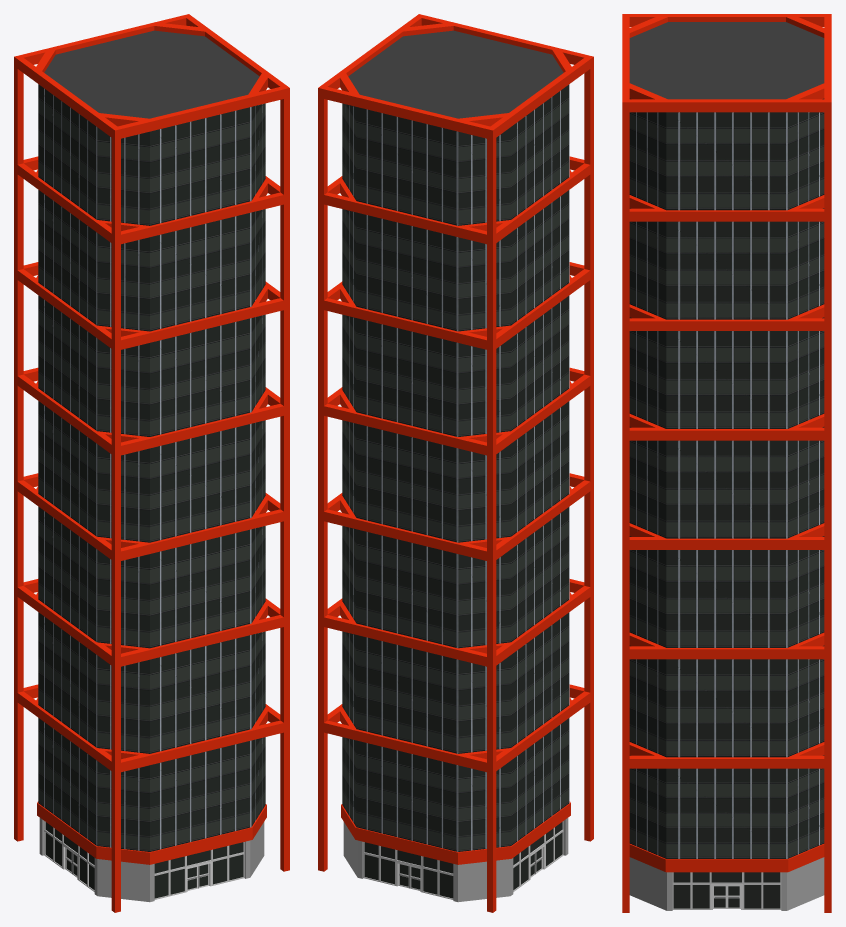
3 views of the same model, side by side, from view 1: azimuth 30°, elevation 25°; view 2: azimuth 150°, elevation 25°; view 3: azimuth 270°, elevation 25° (orthographic). The views are drawn at different scales.
Parts seen in each view (by area): view 1: EC-010; view 2: EC-010; view 3: EC-010.
Part boxes in pixels (bbox=[...]): EC-010: bbox=[14, 14, 289, 912]; EC-010: bbox=[318, 14, 593, 912]; EC-010: bbox=[622, 14, 831, 912].
Size of what is drawn, in the model's own units: 19.06 by 81.5 by 19.06.
